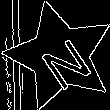N_NW: (28, 24, 91, 88)
